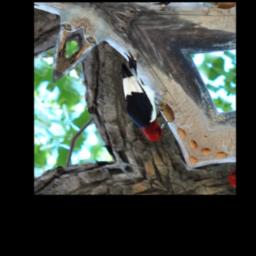Woodpecker: (94, 47, 191, 144)
